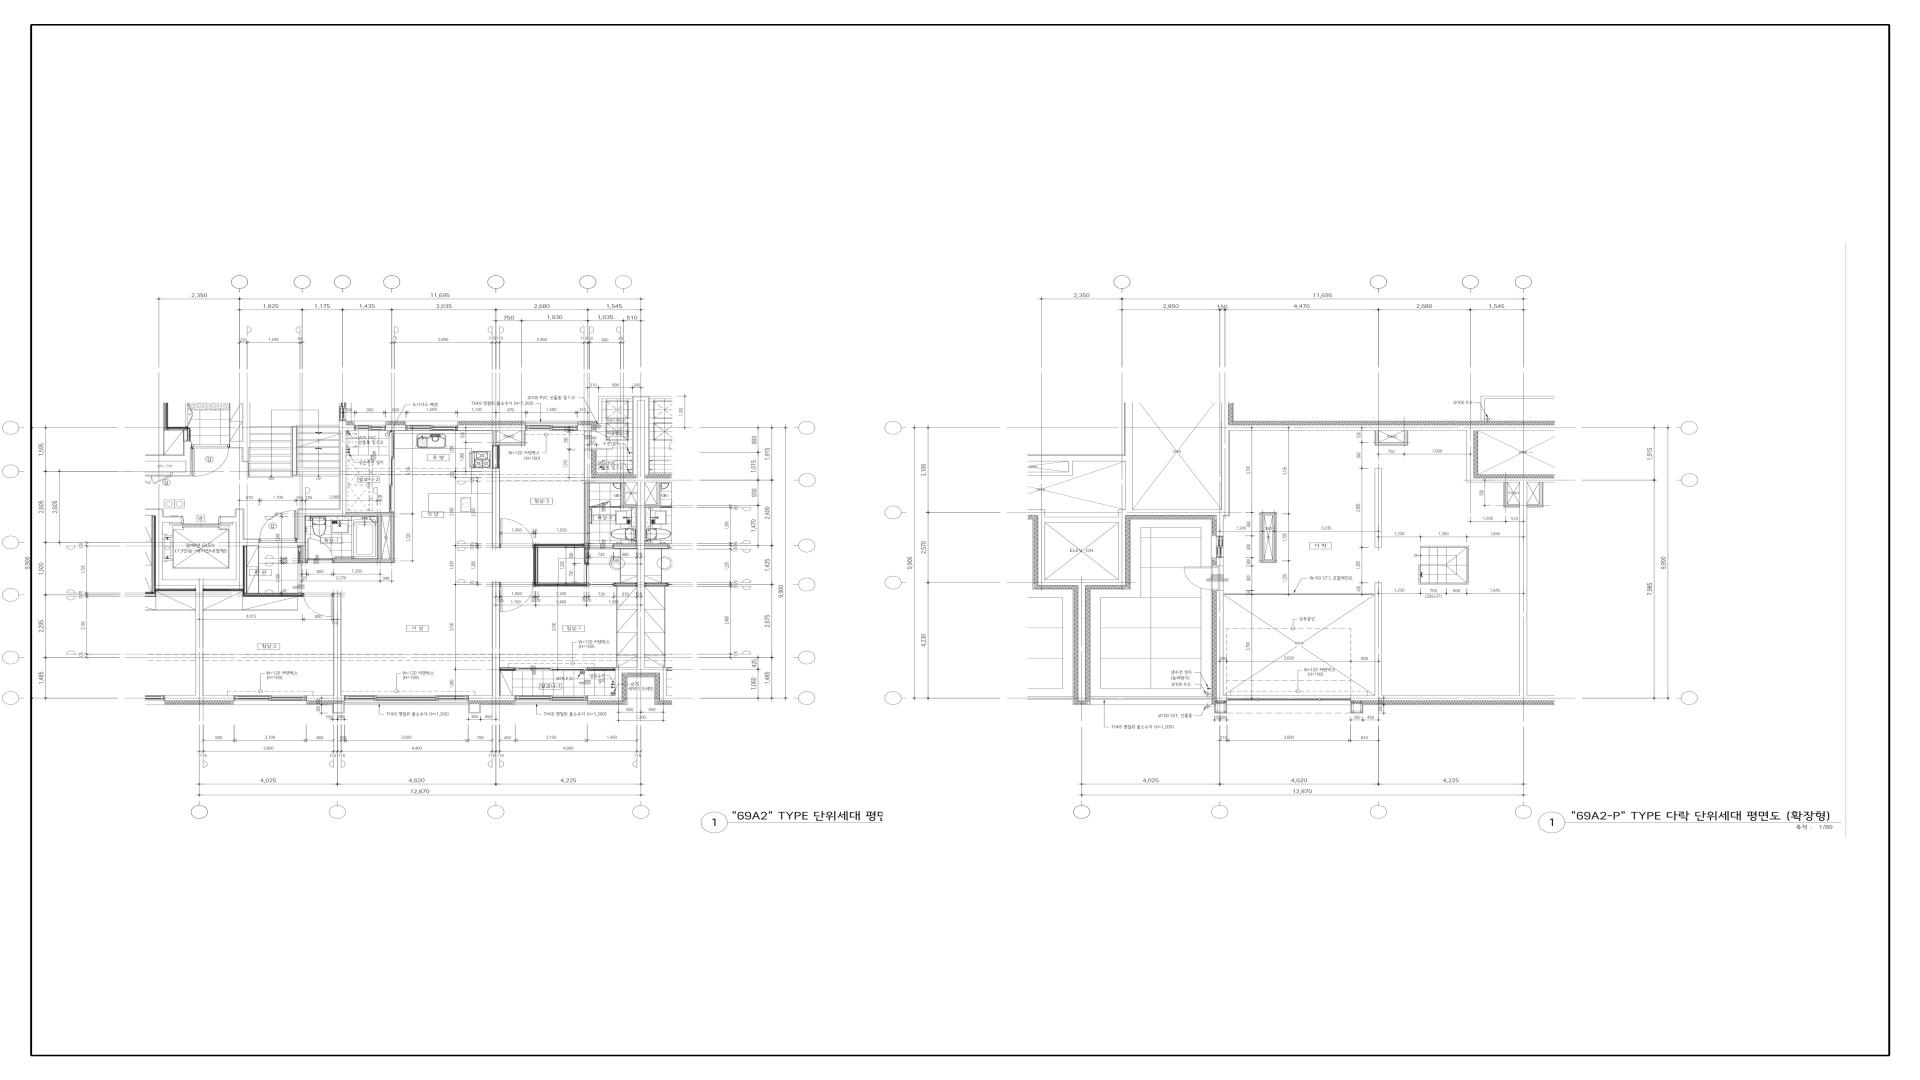door: (258, 510, 298, 546), (191, 442, 229, 477), (500, 583, 534, 612), (1184, 566, 1224, 591), (500, 518, 533, 547), (302, 593, 334, 622), (584, 430, 613, 450), (306, 541, 330, 563), (389, 430, 394, 512), (584, 547, 589, 583), (589, 583, 637, 587), (591, 500, 611, 508), (591, 543, 613, 547)
wall: (1382, 508, 1555, 700), (1228, 425, 1555, 483), (1125, 402, 1229, 535), (1027, 510, 1118, 585), (145, 509, 195, 585), (1350, 583, 1382, 702), (1077, 510, 1125, 585), (243, 546, 302, 597), (330, 516, 390, 563), (641, 396, 674, 480), (588, 667, 673, 700), (345, 512, 394, 563), (1474, 477, 1555, 508), (533, 547, 589, 587), (584, 450, 637, 483), (145, 442, 191, 476), (203, 546, 243, 585), (339, 421, 355, 516), (220, 509, 258, 546), (637, 508, 645, 667), (229, 402, 251, 462), (1216, 591, 1226, 700), (596, 396, 633, 423), (1077, 585, 1085, 700), (195, 580, 203, 695), (492, 583, 500, 695), (334, 593, 342, 695), (1261, 513, 1276, 562), (1027, 462, 1073, 476), (633, 396, 641, 480), (1027, 455, 1125, 462), (468, 700, 516, 713), (492, 468, 500, 547), (1261, 516, 1273, 562), (492, 430, 526, 446), (1375, 468, 1382, 547), (306, 700, 344, 713), (167, 695, 233, 702), (584, 483, 591, 547), (1375, 431, 1407, 444), (1527, 483, 1543, 506), (621, 483, 637, 506), (645, 483, 661, 506), (1505, 483, 1519, 508), (458, 425, 526, 430), (291, 426, 298, 476), (297, 509, 340, 516), (339, 421, 343, 487), (306, 695, 344, 702), (468, 695, 516, 700), (297, 516, 305, 546), (637, 480, 645, 508), (533, 543, 584, 547), (385, 425, 406, 431), (1350, 704, 1364, 713), (587, 667, 616, 671), (1215, 704, 1226, 713), (645, 543, 670, 547), (578, 425, 592, 431), (613, 543, 637, 547), (301, 546, 306, 563), (645, 480, 674, 483), (1216, 558, 1224, 566), (500, 667, 516, 671), (611, 506, 621, 508), (589, 506, 591, 508)
window: (344, 695, 468, 700), (1089, 696, 1212, 700), (233, 695, 306, 702), (516, 695, 588, 700), (526, 425, 578, 431), (1226, 698, 1350, 700), (406, 425, 458, 430), (355, 425, 385, 431), (1216, 535, 1224, 558), (497, 446, 500, 468)
